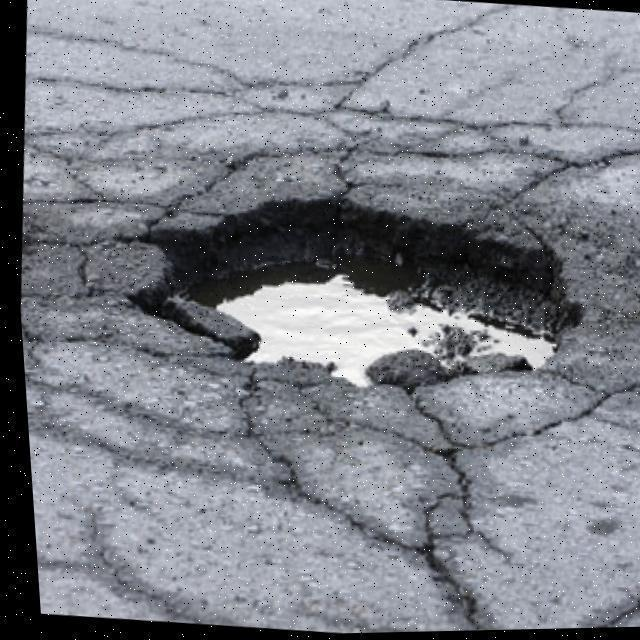Pothole: (125, 192, 587, 387)
